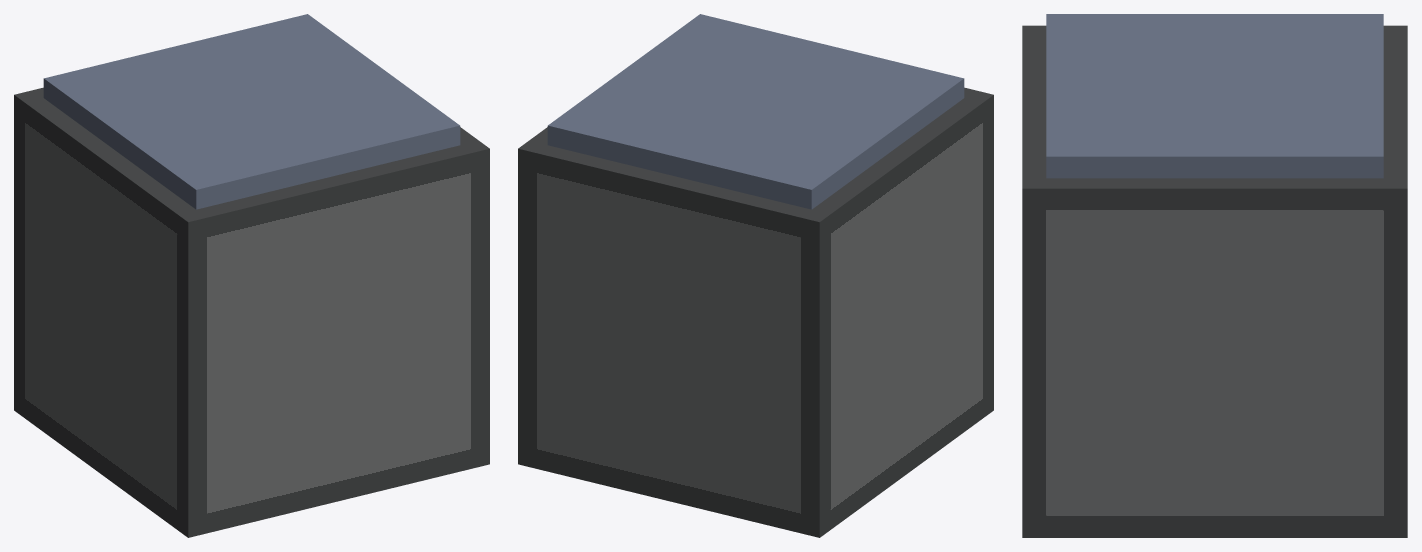
Rendered from arm_base.obj.
3 renders of one model, left to right at view 1: azimuth 30°, elevation 25°; view 2: azimuth 150°, elevation 25°; view 3: azimuth 270°, elevation 25°, orthographic. The views are drawn at different scales.
Visible parts, largest first — view 1: Base; view 2: Base; view 3: Base.
Part boxes in pixels (x1,y1,x2,y2): Base: (14, 14, 489, 537); Base: (518, 14, 993, 537); Base: (1022, 14, 1407, 537).
Bounding box in the file's own units: 1 × 1.06 × 1.
